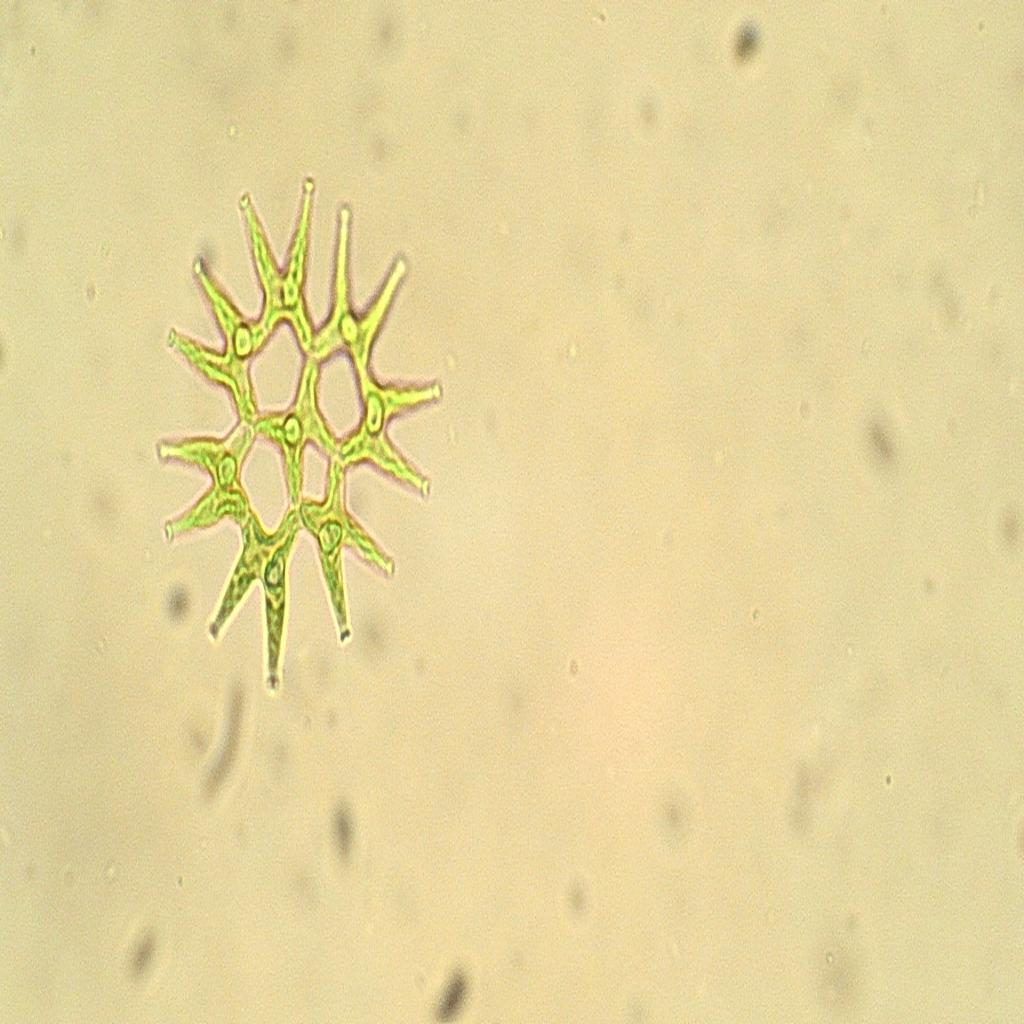Pediastrum_75T: (149, 163, 448, 697)
